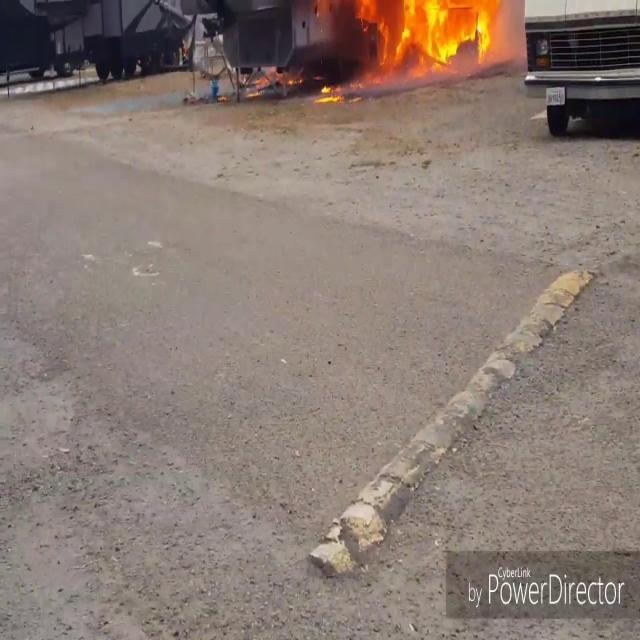Fire: (357, 0, 501, 74)
